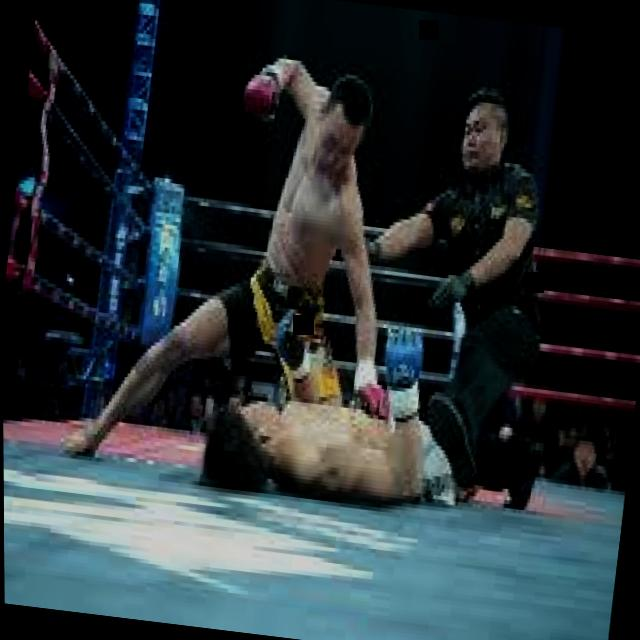Fall-Detected: (197, 330, 509, 521)
